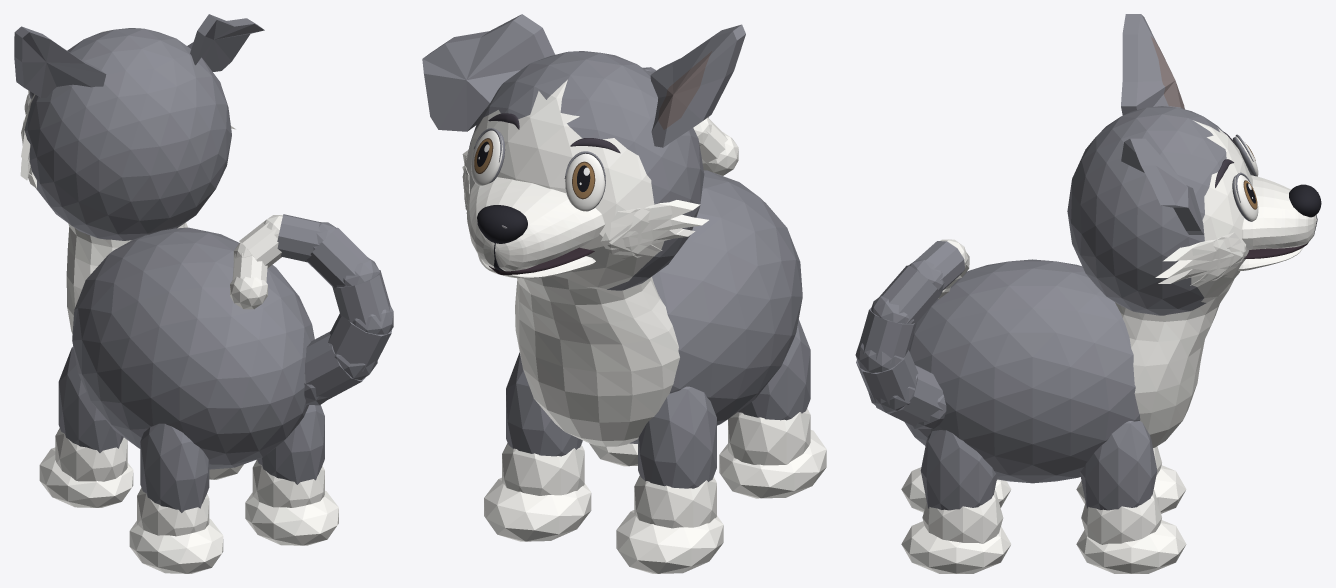
File: pup.glb
3 views of the same model, side by side, from view 1: azimuth 30°, elevation 25°; view 2: azimuth 150°, elevation 25°; view 3: azimuth 270°, elevation 25° (orthographic). The views are drawn at different scales.
Parts seen in each view (by area): view 1: PLS_Pup_R12; view 2: PLS_Pup_R12; view 3: PLS_Pup_R12.
Part boxes in pixels (left/top/right/bottom): PLS_Pup_R12: left=14, top=14, right=393, bottom=573; PLS_Pup_R12: left=422, top=14, right=826, bottom=573; PLS_Pup_R12: left=855, top=14, right=1321, bottom=573.
Size of the model in its own units: 1.79 by 3.21 by 2.88.
Materials: 1 (1 with a texture image).
